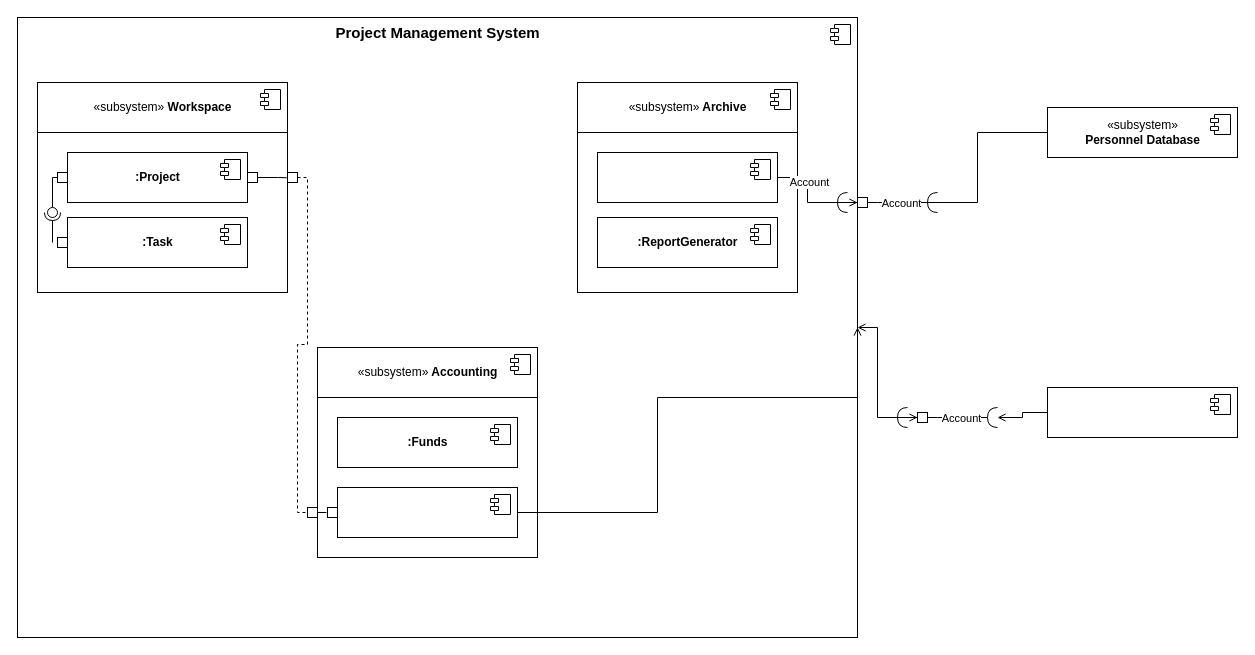
Image size: 1255x655. Some labels were removed from this diagram. Here are the shapes that lost their labels. From the top down, the centre of each, then its label:
the point at 687,177: :Authentication
the point at 1142,412: «subsystem» Account management system
the point at 427,512: :CostCentre
